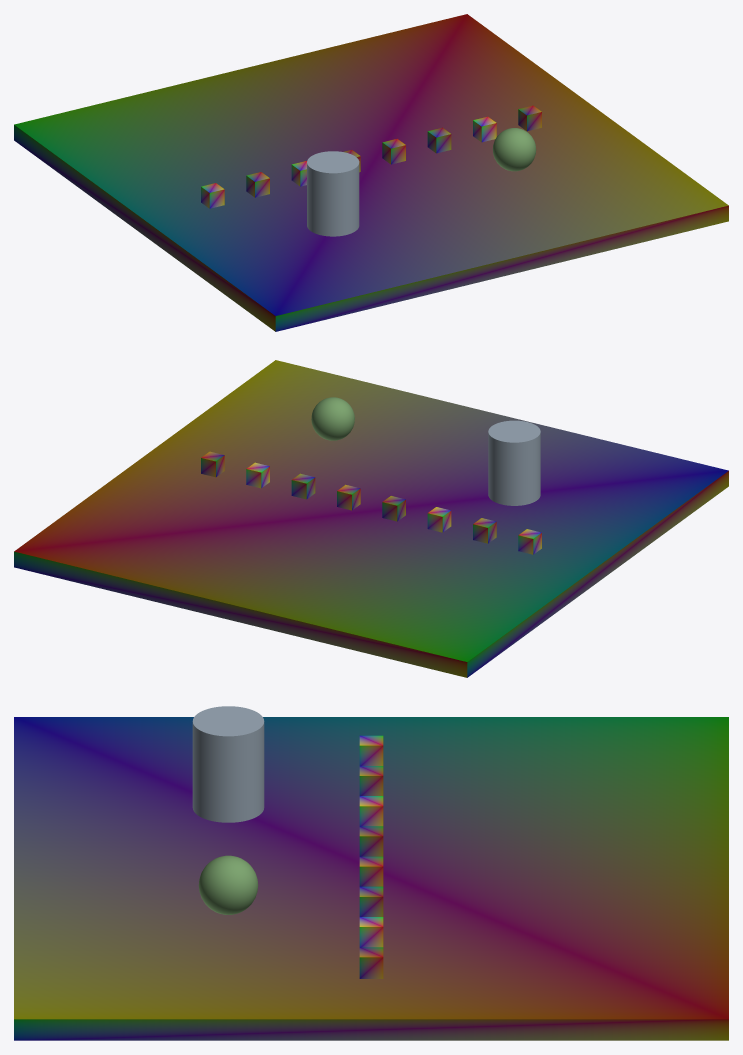
The model's file is city_kit.gltf.
3 renders of one model, top to bottom at view 1: azimuth 30°, elevation 25°; view 2: azimuth 150°, elevation 25°; view 3: azimuth 270°, elevation 25°, orthographic. The views are drawn at different scales.
Visible parts, largest first — view 1: Ground, Tower, Tree, Building5, Building0, Building1, Building4, Building6, Building7; view 2: Ground, Tower, Tree, Building2, Building5, Building0, Building1, Building4, Building6, Building3, Building7; view 3: Ground, Tower, Tree, Building7, Building3, Building0, Building2, Building4, Building5, Building6, Building1.
Boxes of the visible parts, x1,y1,x2,y2 form: Ground: (14, 14, 728, 331); Tower: (307, 151, 359, 236); Tree: (492, 128, 536, 171); Building5: (427, 127, 451, 153); Building0: (201, 183, 224, 208); Building1: (246, 172, 269, 197); Building4: (382, 138, 405, 164); Building6: (473, 116, 496, 142); Building7: (518, 105, 541, 131); Ground: (14, 360, 728, 677); Tower: (488, 420, 540, 505); Tree: (311, 397, 354, 440); Building2: (427, 507, 451, 532); Building5: (291, 473, 315, 499); Building0: (518, 529, 541, 554); Building1: (473, 518, 496, 543); Building4: (337, 484, 360, 510); Building6: (246, 462, 269, 488); Building3: (382, 496, 405, 521); Building7: (201, 451, 224, 477); Ground: (14, 717, 728, 1040); Tower: (192, 706, 264, 822); Tree: (198, 855, 258, 914); Building7: (359, 947, 383, 978); Building3: (359, 826, 383, 856); Building0: (359, 735, 383, 765); Building2: (359, 796, 383, 826); Building4: (359, 856, 383, 886); Building5: (359, 886, 383, 916); Building6: (359, 917, 383, 947); Building1: (359, 766, 383, 795).
Bounding box in the file's own units: 30 × 5 × 30.
